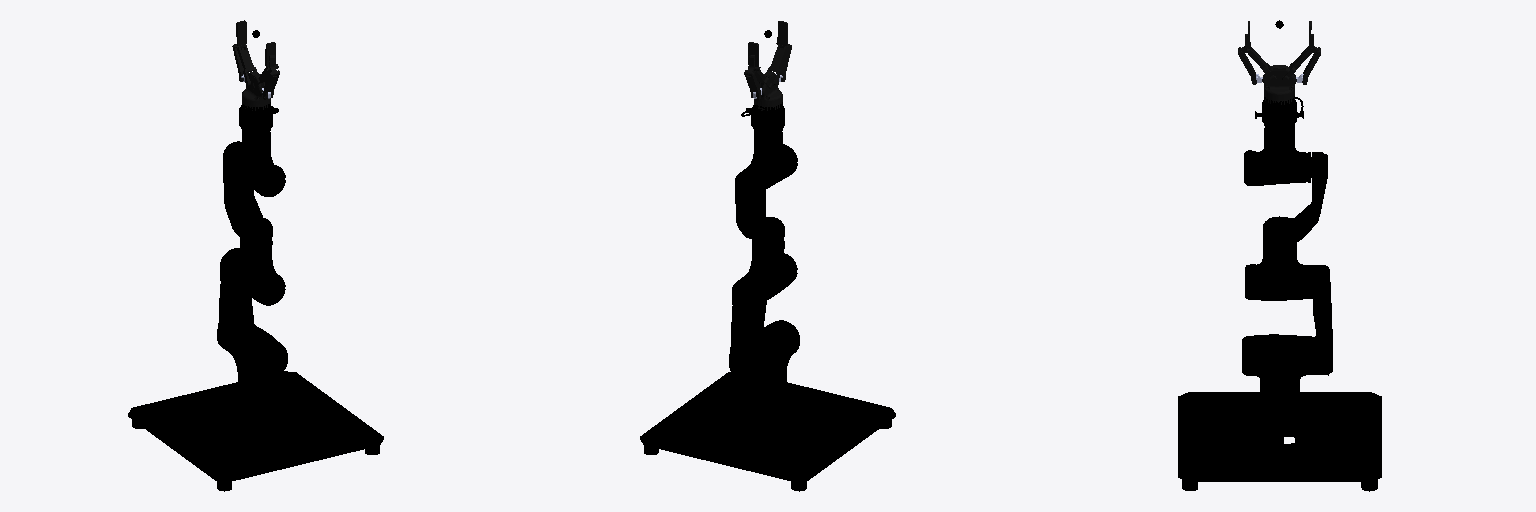
--- What the picture shows (computed from the rendered views, not written in the file) ---
3 views of the same robot in one strip: view 1: azimuth 30°, elevation 25°; view 2: azimuth 150°, elevation 25°; view 3: azimuth 270°, elevation 25° (orthographic).
Robot: mara — 24 links, 23 joints (12 revolute, 11 fixed); root link world; default pose: all joints at 0.
Links seen in each view (by area): view 1: base_link, base_robot, motor4_link, motor1_link, motor1_cover, motor2_link, motor3_link, motor5_link, motor3_cover, motor5_cover, motor6_link, robotiq_arg2f_base_link; view 2: base_link, base_robot, motor2_link, motor4_link, motor1_link, motor3_link, motor5_link, motor6_link, motor1_cover, robotiq_arg2f_base_link; view 3: base_link, base_robot, motor1_link, motor3_link, motor4_link, motor5_link, motor2_link, motor1_cover, motor6_link, motor5_cover, robotiq_arg2f_base_link, motor3_cover.
Link boxes in pixels (<box>): base_link: <box>128,371,383,491</box>; base_robot: <box>210,391,301,444</box>; motor4_link: <box>223,141,272,242</box>; motor1_link: <box>225,321,274,400</box>; motor1_cover: <box>223,319,287,403</box>; motor2_link: <box>217,248,254,348</box>; motor3_link: <box>228,241,275,294</box>; motor5_link: <box>231,132,273,182</box>; motor3_cover: <box>226,239,285,305</box>; motor5_cover: <box>229,129,285,196</box>; motor6_link: <box>239,102,278,133</box>; robotiq_arg2f_base_link: <box>242,71,270,110</box>; base_link: <box>640,372,895,491</box>; base_robot: <box>722,391,813,444</box>; motor2_link: <box>729,275,766,383</box>; motor4_link: <box>735,168,784,243</box>; motor1_link: <box>749,330,793,400</box>; motor3_link: <box>745,240,790,299</box>; motor5_link: <box>747,132,788,188</box>; motor6_link: <box>741,102,784,133</box>; motor1_cover: <box>749,320,799,403</box>; robotiq_arg2f_base_link: <box>754,71,782,110</box>; base_link: <box>1178,392,1381,491</box>; base_robot: <box>1231,400,1328,452</box>; motor1_link: <box>1255,335,1311,409</box>; motor3_link: <box>1255,243,1307,300</box>; motor4_link: <box>1263,152,1327,244</box>; motor5_link: <box>1257,127,1311,183</box>; motor2_link: <box>1313,265,1332,375</box>; motor1_cover: <box>1242,334,1315,413</box>; motor6_link: <box>1255,96,1303,129</box>; motor5_cover: <box>1244,125,1310,185</box>; robotiq_arg2f_base_link: <box>1262,65,1296,104</box>; motor3_cover: <box>1245,240,1312,300</box>.
Bounding box of the posed robot: 0.5004 × 0.5004 × 1.16 m (x, y, z).
Meshes: 21 distinct files referenced, 20 mesh visuals loaded (20 Collada DAE); not drawn: 5 (reference not matched to a file when rendering).

URDF robot description (mara):
<?xml version="1.0" ?>
<!-- =================================================================================== -->
<!-- |    This document was autogenerated by xacro from [local-path]/ros2_mara_ws/src/MARA_AI/mara_description/urdf/mara_robot_gripper_140.urdf.xacro | -->
<!-- |    EDITING THIS FILE BY HAND IS NOT RECOMMENDED                                 | -->
<!-- =================================================================================== -->
<robot name="mara" xmlns:xacro="http://ros.org/wiki/xacro">
  <!--
  Author: Alejandro  Hernandez
-->
  <!-- <xacro:include filename="$(find mara_description)/urdf/camera_top.urdf.xacro" /> -->
  <link name="base_link">
    <inertial>
      <origin rpy="0 0 0" xyz="8.625E-08 -4.6583E-06 0.03145"/>
      <mass value="7.033"/>
      <inertia ixx="0.1478344" ixy="-0.00001" ixz="0.0" iyy="0.14782335" iyz="0.0" izz="0.29471799"/>
    </inertial>
    <visual>
      <origin rpy="0 0 0" xyz="0 0 0"/>
      <geometry>
        <mesh filename="package://mara_description/meshes/Base_plancha.dae" scale="0.001 0.001 0.001"/>
      </geometry>
      <material name="Gazebo/Grey">
        <color rgba="0. 0. 0. 1"/>
      </material>
    </visual>
    <collision>
      <origin rpy="0 0 0" xyz="0 0 0"/>
      <geometry>
        <mesh filename="package://mara_description/meshes/Base_plancha.dae" scale="0.001 0.001 0.001"/>
      </geometry>
    </collision>
  </link>
  <gazebo reference="base_link">
    <material>Gazebo/Grey</material>
    <selfCollide>True</selfCollide>
  </gazebo>
  <link name="base_robot">
    <inertial>
      <origin rpy="0 0 0" xyz="8.625E-08 -4.6583E-06 0.03145"/>
      <mass value="7.033"/>
      <inertia ixx="0.1478344" ixy="-0.00001" ixz="0.0" iyy="0.14782335" iyz="0.0" izz="0.29471799"/>
    </inertial>
    <visual>
      <origin rpy="0 0 0" xyz="0 0 0"/>
      <geometry>
        <mesh filename="package://mara_description/meshes/Base.dae" scale="0.001 0.001 0.001"/>
      </geometry>
      <material name="Gazebo/Black">
        <color rgba="0. 0. 0. 1"/>
      </material>
    </visual>
    <collision>
      <origin rpy="0 0 0" xyz="0 0 0"/>
      <geometry>
        <mesh filename="package://mara_description/meshes/Base.dae" scale="0.001 0.001 0.001"/>
      </geometry>
    </collision>
  </link>
  <gazebo reference="base_robot">
    <material>Gazebo/Black</material>
    <selfCollide>True</selfCollide>
  </gazebo>
  <link name="motor1_link">
    <inertial>
      <origin rpy="0 0 0" xyz="8.625E-08 -4.6583E-06 0.03145"/>
      <mass value="5.8"/>
      <inertia ixx="0.10105893" ixy="0.000211" ixz="-0.004" iyy="0.09386624" iyz="-0.01698537" izz="0.01449937"/>
    </inertial>
    <visual>
      <origin rpy="0 0 0" xyz="0 0 0"/>
      <geometry>
        <mesh filename="package://mara_description/meshes/MARA_T49.dae" scale="0.001 0.001 0.001"/>
      </geometry>
      <material name="Gazebo/White">
        <color rgba="0. 0. 0. 1"/>
      </material>
    </visual>
    <collision>
      <origin rpy="0 0 0" xyz="0 0 0"/>
      <geometry>
        <mesh filename="package://mara_description/meshes/MARA_T49.dae" scale="0.001 0.001 0.001"/>
      </geometry>
    </collision>
  </link>
  <gazebo reference="motor1_link">
    <material>Gazebo/White</material>
    <selfCollide>True</selfCollide>
  </gazebo>
  <link name="motor1_cover">
    <inertial>
      <origin rpy="0 0 0" xyz="8.625E-08 -4.6583E-06 0.03145"/>
      <mass value="5.8"/>
      <inertia ixx="0.10105893" ixy="0.000211" ixz="-0.004" iyy="0.09386624" iyz="-0.01698537" izz="0.01449937"/>
    </inertial>
    <visual>
      <origin rpy="0 0 0" xyz="0 0 0"/>
      <geometry>
        <mesh filename="package://mara_description/meshes/MARA_T49_Black.dae" scale="0.001 0.001 0.001"/>
      </geometry>
      <material name="Gazebo/Black">
        <color rgba="0. 0. 0. 1"/>
      </material>
    </visual>
    <collision>
      <origin rpy="0 0 0" xyz="0 0 0"/>
      <geometry>
        <mesh filename="package://mara_description/meshes/MARA_T49_Black.dae" scale="0.001 0.001 0.001"/>
      </geometry>
    </collision>
  </link>
  <gazebo reference="motor1_cover">
    <material>Gazebo/Black</material>
    <selfCollide>True</selfCollide>
  </gazebo>
  <link name="motor2_link">
    <inertial>
      <origin rpy="0 0 0" xyz="8.625E-08 -4.6583E-06 0.03145"/>
      <mass value="1.03237"/>
      <inertia ixx="0.014865226" ixy="0.0" ixz="0.0" iyy="0.01557" iyz="0.00071" izz="0.00092"/>
    </inertial>
    <visual>
      <origin rpy="0 0 0" xyz="0 0 0"/>
      <geometry>
        <mesh filename="package://mara_description/meshes/MARA_Link1.dae" scale="0.001 0.001 0.001"/>
      </geometry>
      <material name="Gazebo/Black">
        <color rgba="0. 0. 0. 1"/>
      </material>
    </visual>
    <collision>
      <origin rpy="0 0 0" xyz="0 0 0"/>
      <geometry>
        <mesh filename="package://mara_description/meshes/MARA_Link1.dae" scale="0.001 0.001 0.001"/>
      </geometry>
    </collision>
  </link>
  <gazebo reference="motor2_link">
    <material>Gazebo/Black</material>
    <selfCollide>True</selfCollide>
  </gazebo>
  <link name="motor3_link">
    <inertial>
      <origin rpy="0 0 0" xyz="8.625E-08 -4.6583E-06 0.03145"/>
      <mass value="3.8"/>
      <inertia ixx="0.04517" ixy="0.00002" ixz="0.0" iyy="0.01587" iyz="0.01444" izz="0.03303"/>
    </inertial>
    <visual>
      <origin rpy="0 0 0" xyz="0 0 0"/>
      <geometry>
        <mesh filename="package://mara_description/meshes/MARA_T30.dae" scale="0.001 0.001 0.001"/>
      </geometry>
      <material name="Gazebo/White">
        <color rgba="0. 0. 0. 1"/>
      </material>
    </visual>
    <collision>
      <origin rpy="0 0 0" xyz="0 0 0"/>
      <geometry>
        <mesh filename="package://mara_description/meshes/MARA_T30.dae" scale="0.001 0.001 0.001"/>
      </geometry>
    </collision>
  </link>
  <gazebo reference="motor3_link">
    <material>Gazebo/White</material>
    <selfCollide>True</selfCollide>
  </gazebo>
  <link name="motor3_cover">
    <inertial>
      <origin rpy="0 0 0" xyz="8.625E-08 -4.6583E-06 0.03145"/>
      <mass value="3.8"/>
      <inertia ixx="0.04517" ixy="0.00002" ixz="0.0" iyy="0.01587" iyz="0.01444" izz="0.03303"/>
    </inertial>
    <visual>
      <origin rpy="0 0 0" xyz="0 0 0"/>
      <geometry>
        <mesh filename="package://mara_description/meshes/MARA_T30_Black.dae" scale="0.001 0.001 0.001"/>
      </geometry>
      <material name="Gazebo/Black">
        <color rgba="0. 0. 0. 1"/>
      </material>
    </visual>
    <collision>
      <origin rpy="0 0 0" xyz="0 0 0"/>
      <geometry>
        <mesh filename="package://mara_description/meshes/MARA_T30_Black.dae" scale="0.001 0.001 0.001"/>
      </geometry>
    </collision>
  </link>
  <gazebo reference="motor3_cover">
    <material>Gazebo/Black</material>
    <selfCollide>True</selfCollide>
  </gazebo>
  <link name="motor4_link">
    <inertial>
      <origin rpy="0 0 0" xyz="8.625E-08 -4.6583E-06 0.03145"/>
      <mass value="1.1"/>
      <inertia ixx="0.01464" ixy="0.0" ixz="0.0" iyy="0.00895" iyz="-0.00631" izz="0.00725"/>
    </inertial>
    <visual>
      <origin rpy="0 0 0" xyz="0 0 0"/>
      <geometry>
        <mesh filename="package://mara_description/meshes/MARA_Link2.dae" scale="0.001 0.001 0.001"/>
      </geometry>
      <material name="Gazebo/Black">
        <color rgba="0. 0. 0. 1"/>
      </material>
    </visual>
    <collision>
      <origin rpy="0 0 0" xyz="0 0 0"/>
      <geometry>
        <mesh filename="package://mara_description/meshes/MARA_Link2.dae" scale="0.001 0.001 0.001"/>
      </geometry>
    </collision>
  </link>
  <gazebo reference="motor4_link">
    <material>Gazebo/Black</material>
    <selfCollide>True</selfCollide>
  </gazebo>
  <link name="motor5_link">
    <inertial>
      <origin rpy="0 0 0" xyz="8.625E-08 -4.6583E-06 0.03145"/>
      <mass value="2.9"/>
      <inertia ixx="0.03406" ixy="0.0" ixz="0.0" iyy="0.01066" iyz="0.00989" izz="0.02563"/>
    </inertial>
    <visual>
      <origin rpy="0 0 0" xyz="0 0 0"/>
      <geometry>
        <mesh filename="package://mara_description/meshes/MARA_T5.4.dae" scale="0.001 0.001 0.001"/>
      </geometry>
      <material name="Gazebo/White">
        <color rgba="0. 0. 0. 1"/>
      </material>
    </visual>
    <collision>
      <origin rpy="0 0 0" xyz="0 0 0"/>
      <geometry>
        <mesh filename="package://mara_description/meshes/MARA_T5.4.dae" scale="0.001 0.001 0.001"/>
      </geometry>
    </collision>
  </link>
  <gazebo reference="motor5_link">
    <material>Gazebo/White</material>
    <selfCollide>True</selfCollide>
  </gazebo>
  <link name="motor5_cover">
    <inertial>
      <origin rpy="0 0 0" xyz="8.625E-08 -4.6583E-06 0.03145"/>
      <mass value="2.9"/>
      <inertia ixx="0.03406" ixy="0.0" ixz="0.0" iyy="0.01066" iyz="0.00989" izz="0.02563"/>
    </inertial>
    <visual>
      <origin rpy="0 0 0" xyz="0 0 0"/>
      <geometry>
        <mesh filename="package://mara_description/meshes/MARA_T5.4_black.dae" scale="0.001 0.001 0.001"/>
      </geometry>
      <material name="Gazebo/Black">
        <color rgba="0. 0. 0. 1"/>
      </material>
    </visual>
    <collision>
      <origin rpy="0 0 0" xyz="0 0 0"/>
      <geometry>
        <mesh filename="package://mara_description/meshes/MARA_T5.4_black.dae" scale="0.001 0.001 0.001"/>
      </geometry>
    </collision>
  </link>
  <gazebo reference="motor5_cover">
    <material>Gazebo/Black</material>
    <selfCollide>True</selfCollide>
  </gazebo>
  <link name="motor6_link">
    <inertial>
      <origin rpy="0 0 0" xyz="8.625E-08 -4.6583E-06 0.03145"/>
      <mass value="2.9"/>
      <inertia ixx="0.0005" ixy="0.0" ixz="0.0" iyy="0.0005" iyz="0.0000" izz="0.0003"/>
    </inertial>
    <visual>
      <origin rpy="0 0 0" xyz="0 0 0"/>
      <geometry>
        <mesh filename="package://mara_description/meshes/MARA_GripperAdapter.dae" scale="0.001 0.001 0.001"/>
      </geometry>
      <material name="Gazebo/Black">
        <color rgba="0. 0. 0. 1"/>
      </material>
    </visual>
    <collision>
      <origin rpy="0 0 0" xyz="0 0 0"/>
      <geometry>
        <mesh filename="package://mara_description/meshes/MARA_GripperAdapter.dae" scale="0.001 0.001 0.001"/>
      </geometry>
    </collision>
  </link>
  <gazebo reference="motor6_link">
    <material>Gazebo/Black</material>
    <selfCollide>True</selfCollide>
  </gazebo>
  <link name="ee_link">
    <visual>
      <geometry>
        <sphere radius="0.01"/>
      </geometry>
      <material name="Gazebo/Grey">
        <color rgba="0. 0. 0. 1"/>
      </material>
    </visual>
  </link>
  <gazebo reference="ee_link">
    <material>Gazebo/Blue</material>
    <selfCollide>False</selfCollide>
  </gazebo>
  <joint name="joint_bases" type="fixed">
    <origin rpy="0 0 0" xyz="0 0 0.04"/>
    <parent link="base_link"/>
    <child link="base_robot"/>
  </joint>
  <joint name="motor1" type="revolute">
    <origin rpy="0 0 0" xyz="0 0 0.05122"/>
    <parent link="base_robot"/>
    <child link="motor1_link"/>
    <axis xyz="0 0 -1"/>
    <limit effort="330.0" lower="-3.1416" upper="3.1416" velocity="3.1416"/>
    <dynamics damping="0" friction="0"/>
  </joint>
  <joint name="motor1_cover_joint" type="fixed">
    <origin rpy="0 0 0" xyz="0 0 0.0"/>
    <parent link="motor1_link"/>
    <child link="motor1_cover"/>
  </joint>
  <joint name="motor2" type="revolute">
    <origin rpy="0 0 0" xyz="0.118 0 0.1637"/>
    <parent link="motor1_link"/>
    <child link="motor2_link"/>
    <axis xyz="-1 0 0"/>
    <limit effort="330.0" lower="-3.1416" upper="3.1416" velocity="3.1416"/>
    <dynamics damping="0" friction="0"/>
  </joint>
  <joint name="motor3" type="revolute">
    <origin rpy="0 0 0" xyz="-0.009 0 0.2"/>
    <parent link="motor2_link"/>
    <child link="motor3_link"/>
    <axis xyz="1 0 0"/>
    <limit effort="330.0" lower="-3.1416" upper="3.1416" velocity="3.1416"/>
    <dynamics damping="0" friction="0"/>
  </joint>
  <joint name="motor3_cover_joint" type="fixed">
    <origin rpy="0 0 0" xyz="0 0 0.0"/>
    <parent link="motor3_link"/>
    <child link="motor3_cover"/>
  </joint>
  <joint name="motor4" type="revolute">
    <origin rpy="0 0 0" xyz="-0.109255 0 0.149255"/>
    <parent link="motor3_link"/>
    <child link="motor4_link"/>
    <axis xyz="0 0 -1"/>
    <limit effort="330.0" lower="-3.1416" upper="3.1416" velocity="3.1416"/>
    <dynamics damping="0" friction="0"/>
  </joint>
  <joint name="motor5" type="revolute">
    <origin rpy="0 0 0" xyz="0.1054570 0 0.16074"/>
    <parent link="motor4_link"/>
    <child link="motor5_link"/>
    <axis xyz="1 0 0"/>
    <limit effort="330.0" lower="-3.1416" upper="3.1416" velocity="3.1416"/>
    <dynamics damping="0" friction="0"/>
  </joint>
  <joint name="motor5_cover_joint" type="fixed">
    <origin rpy="0 0 0" xyz="0 0 0.0"/>
    <parent link="motor5_link"/>
    <child link="motor5_cover"/>
  </joint>
  <joint name="motor6" type="revolute">
    <origin rpy="0 0 0" xyz="-0.10625569 0 0.14675569"/>
    <parent link="motor5_link"/>
    <child link="motor6_link"/>
    <axis xyz="0 0 -1"/>
    <limit effort="330.0" lower="-3.1416" upper="3.1416" velocity="3.1416"/>
    <dynamics damping="0" friction="0"/>
  </joint>
  <joint name="ee_link" type="fixed">
    <origin rpy="0 0 0" xyz="0 0.0 0.24"/>
    <!-- 0.24 -->
    <parent link="motor6_link"/>
    <child link="ee_link"/>
  </joint>
  <link name="tool0"/>
  <joint name="motor6_link-tool0_fixed_joint" type="fixed">
    <origin rpy="0 0 0" xyz="0 0.0 0.24"/>
    <parent link="motor6_link"/>
    <child link="tool0"/>
  </joint>
  <transmission name="shoulder_pan_trans">
    <type>transmission_interface/SimpleTransmission</type>
    <joint name="motor1">
      <hardwareInterface>hardware_interface/PositionJointInterface</hardwareInterface>
    </joint>
    <actuator name="shoulder_pan_motor">
      <mechanicalReduction>1</mechanicalReduction>
    </actuator>
  </transmission>
  <transmission name="shoulder_lift_trans">
    <type>transmission_interface/SimpleTransmission</type>
    <joint name="motor2">
      <hardwareInterface>hardware_interface/PositionJointInterface</hardwareInterface>
    </joint>
    <actuator name="shoulder_lift_motor">
      <mechanicalReduction>1</mechanicalReduction>
    </actuator>
  </transmission>
  <transmission name="elbow_trans">
    <type>transmission_interface/SimpleTransmission</type>
    <joint name="motor3">
      <hardwareInterface>hardware_interface/PositionJointInterface</hardwareInterface>
    </joint>
    <actuator name="elbow_motor">
      <mechanicalReduction>1</mechanicalReduction>
    </actuator>
  </transmission>
  <transmission name="wrist_1_trans">
    <type>transmission_interface/SimpleTransmission</type>
    <joint name="motor4">
      <hardwareInterface>hardware_interface/PositionJointInterface</hardwareInterface>
    </joint>
    <actuator name="wrist_1_motor">
      <mechanicalReduction>1</mechanicalReduction>
    </actuator>
  </transmission>
  <transmission name="wrist_2_trans">
    <type>transmission_interface/SimpleTransmission</type>
    <joint name="motor5">
      <hardwareInterface>hardware_interface/PositionJointInterface</hardwareInterface>
    </joint>
    <actuator name="wrist_2_motor">
      <mechanicalReduction>1</mechanicalReduction>
    </actuator>
  </transmission>
  <transmission name="wrist_3_trans">
    <type>transmission_interface/SimpleTransmission</type>
    <joint name="motor6">
      <hardwareInterface>hardware_interface/PositionJointInterface</hardwareInterface>
    </joint>
    <actuator name="wrist_3_motor">
      <mechanicalReduction>1</mechanicalReduction>
    </actuator>
  </transmission>
  <gazebo>
    <plugin filename="libmara_gazebo_joint_running_plugin.so" name="hros_actuation_servomotor_00000000000">
      <ros/>
      <axis1>motor2</axis1>
      <axis2>motor1</axis2>
      <axis3>motor3</axis3>
      <axis4>motor4</axis4>
      <axis5>motor5</axis5>
      <axis6>motor6</axis6>
    </plugin>
  </gazebo>
  <link name="robotiq_arg2f_base_link">
    <inertial>
      <origin rpy="0 0 0" xyz="8.625E-08 -4.6583E-06 0.03145"/>
      <mass value="0.22652"/>
      <inertia ixx="0.00020005" ixy="0" ixz="0" iyy="0.00017832" iyz="0" izz="0.00013478"/>
    </inertial>
    <visual>
      <origin rpy="0 0 1.57" xyz="0 0 0"/>
      <geometry>
        <mesh filename="package://robotiq_140_gripper_description/meshes/GRIPPER_base_axis.dae" scale="0.001 0.001 0.001"/>
      </geometry>
      <material name="Gazebo/Black">
        <color rgba="0.1 0.1 0.1 1"/>
      </material>
    </visual>
    <collision>
      <origin rpy="0 0 1.57" xyz="0 0 0"/>
      <geometry>
        <mesh filename="package://robotiq_140_gripper_description/meshes/GRIPPER_base_axis.dae" scale="0.001 0.001 0.001"/>
      </geometry>
    </collision>
  </link>
  <gazebo reference="robotiq_arg2f_base_link">
    <material>Gazebo/Black</material>
    <selfCollide>False</selfCollide>
  </gazebo>
  <link name="left_outer_knuckle">
    <inertial>
      <origin rpy="0 0 0" xyz="0 0 0"/>
      <mass value="0.00853198276973456"/>
      <inertia ixx="2.89328108496468E-06" ixy="-1.57935047237397E-19" ixz="-1.93980378593255E-19" iyy="1.86719750325683E-06" iyz="-1.21858577871576E-06" izz="1.21905238907251E-06"/>
    </inertial>
    <visual>
      <origin rpy="0 0 0" xyz="0 0 0"/>
      <geometry>
        <mesh filename="package://robotiq_140_gripper_description/meshes/robotiq_140_left_outer_knuckle.dae"/>
      </geometry>
      <material name="">
        <color rgba="0.792156862745098 0.819607843137255 0.933333333333333 1"/>
      </material>
    </visual>
    <collision>
      <origin rpy="0 0 0" xyz="0 0 0"/>
      <geometry>
        <mesh filename="package://robotiq_140_gripper_description/meshes/robotiq_140_left_outer_knuckle.dae"/>
      </geometry>
    </collision>
  </link>
  <gazebo reference="left_outer_knuckle">
    <material>Gazebo/Grey</material>
    <selfCollide>False</selfCollide>
  </gazebo>
  <link name="right_outer_knuckle">
    <inertial>
      <origin rpy="0 0 0" xyz="0 0 0"/>
      <mass value="0.00853198276973456"/>
      <inertia ixx="2.89328108496468E-06" ixy="-1.57935047237397E-19" ixz="-1.93980378593255E-19" iyy="1.86719750325683E-06" iyz="-1.21858577871576E-06" izz="1.21905238907251E-06"/>
    </inertial>
    <visual>
      <origin rpy="0 0 0" xyz="0 0 0"/>
      <geometry>
        <mesh filename="package://robotiq_140_gripper_description/meshes/robotiq_140_right_outer_knuckle.dae"/>
      </geometry>
      <material name="">
        <color rgba="0.792156862745098 0.819607843137255 0.933333333333333 1"/>
      </material>
    </visual>
    <collision>
      <origin rpy="0 0 0" xyz="0 0 0"/>
      <geometry>
        <mesh filename="package://robotiq_140_gripper_description/meshes/robotiq_140_right_outer_knuckle.dae"/>
      </geometry>
    </collision>
  </link>
  <gazebo reference="right_outer_knuckle">
    <material>Gazebo/Grey</material>
    <selfCollide>False</selfCollide>
  </gazebo>
  <link name="left_inner_knuckle">
    <inertial>
      <origin rpy="0 0 0" xyz="0.000123011831763771 0.0507850843201817 0.00103968640075166"/>
      <mass value="0.0271177346495152"/>
      <inertia ixx="2.61910379223783E-05" ixy="-2.43616858946494E-07" ixz="-6.37789906117123E-09" iyy="2.8270243746167E-06" iyz="-5.37200748039765E-07" izz="2.83695868220296E-05"/>
    </inertial>
    <visual>
      <origin rpy="0 0 0" xyz="0 0 0"/>
      <geometry>
        <mesh filename="package://robotiq_140_gripper_description/meshes/robotiq_140_left_inner_knuckle.dae"/>
      </geometry>
      <material name="Gazebo/Black">
        <color rgba="0.1 0.1 0.1 1"/>
      </material>
    </visual>
  </link>
  <gazebo reference="left_inner_knuckle">
    <material>Gazebo/Black</material>
    <selfCollide>False</selfCollide>
  </gazebo>
  <link name="right_inner_knuckle">
    <inertial>
      <origin rpy="0 0 0" xyz="0.000123011831763771 0.0507850843201817 0.00103968640075166"/>
      <mass value="0.0271177346495152"/>
      <inertia ixx="2.61910379223783E-05" ixy="-2.43616858946494E-07" ixz="-6.37789906117123E-09" iyy="2.8270243746167E-06" iyz="-5.37200748039765E-07" izz="2.83695868220296E-05"/>
    </inertial>
    <visual>
      <origin rpy="0 0 0" xyz="0 0 0"/>
      <geometry>
        <mesh filename="package://robotiq_140_gripper_description/meshes/robotiq_140_right_inner_knuckle.dae"/>
      </geometry>
      <material name="Gazebo/Black">
        <color rgba="0.1 0.1 0.1 1"/>
      </material>
    </visual>
  </link>
  <gazebo reference="right_inner_knuckle">
    <material>Gazebo/Black</material>
    <selfCollide>False</selfCollide>
  </gazebo>
  <link name="left_inner_finger">
    <inertial>
      <origin rpy="0 0 0" xyz="0.0 0.031506174 -0.017648840"/>
      <mass value="0.0104003125914103"/>
      <inertia ixx="2.71909453810972E-06" ixy="1.35402465472579E-21" ixz="-7.1817349065269E-22" iyy="7.69100314106116E-07" iyz="6.74715432769696E-07" izz="2.30315190420171E-06"/>
    </inertial>
    <visual>
      <origin rpy="0 0 0" xyz="0 0 0"/>
      <geometry>
        <mesh filename="package://robotiq_140_gripper_description/meshes/robotiq_140_left_inner_finger.dae" scale="0.001 0.001 0.001"/>
      </geometry>
      <material name="Gazebo/Black">
        <color rgba="0.1 0.1 0.1 1"/>
      </material>
    </visual>
    <collision>
      <origin rpy="0 0 0" xyz="0 0 0"/>
      <geometry>
        <mesh filename="package://robotiq_140_gripper_description/meshes/robotiq_140_left_inner_finger.dae" scale="0.001 0.001 0.001"/>
      </geometry>
    </collision>
  </link>
  <gazebo reference="left_inner_finger">
    <material>Gazebo/Black</material>
    <selfCollide>False</selfCollide>
  </gazebo>
  <link name="right_inner_finger">
    <inertial>
      <origin rpy="0 0 0" xyz="0.0 0.031506174 -0.017648840"/>
      <mass value="0.0104003125914103"/>
      <inertia ixx="2.71909453810972E-06" ixy="1.35402465472579E-21" ixz="-7.1817349065269E-22" iyy="7.69100314106116E-07" iyz="6.74715432769696E-07" izz="2.30315190420171E-06"/>
    </inertial>
    <visual>
      <origin rpy="0 0 0" xyz="0 0 0"/>
      <geometry>
        <mesh filename="package://robotiq_140_gripper_description/meshes/robotiq_140_right_inner_finger.dae" scale="0.001 0.001 0.001"/>
      </geometry>
      <material name="Gazebo/Black">
        <color rgba="0.1 0.1 0.1 1"/>
      </material>
    </visual>
    <collision>
      <origin rpy="0 0 0" xyz="0 0 0"/>
      <geometry>
        <mesh filename="package://robotiq_140_gripper_description/meshes/robotiq_140_right_inner_finger.dae" scale="0.001 0.001 0.001"/>
      </geometry>
    </collision>
  </link>
  <gazebo reference="right_inner_finger">
    <material>Gazebo/Black</material>
    <selfCollide>False</selfCollide>
  </gazebo>
  <link name="left_outer_finger">
    <inertial>
      <origin rpy="0 0 0" xyz="0.00030115855001899 0.0373907951953854 -0.0208027427000385"/>
      <mass value="0.022614240507152"/>
      <inertia ixx="1.52518312458174E-05" ixy="9.76583423954399E-10" ixz="-5.43838577022588E-10" iyy="6.17694243867776E-06" iyz="6.78636130740228E-06" izz="1.16494917907219E-05"/>
    </inertial>
    <visual>
      <origin rpy="0 0 0" xyz="0 0 0"/>
      <geometry>
        <mesh filename="package://robotiq_140_gripper_description/meshes/robotiq_140_left_outer_finger.dae"/>
      </geometry>
      <material name="Gazebo/Black">
        <color rgba="0.1 0.1 0.1 1"/>
      </material>
    </visual>
    <collision>
      <origin rpy="0 0 0" xyz="0 0 0"/>
      <geometry>
        <mesh filename="package://robotiq_140_gripper_description/meshes/robotiq_140_left_outer_finger.dae"/>
      </geometry>
    </collision>
  </link>
  <gazebo reference="left_outer_finger">
    <material>Gazebo/Black</material>
    <selfCollide>False</selfCollide>
  </gazebo>
  <link name="right_outer_finger">
    <inertial>
      <origin rpy="0 0 0" xyz="0.00030115855001899 0.0373907951953854 -0.0208027427000385"/>
      <mass value="0.022614240507152"/>
      <inertia ixx="1.52518312458174E-05" ixy="9.76583423954399E-10" ixz="-5.43838577022588E-10" iyy="6.17694243867776E-06" iyz="6.78636130740228E-06" izz="1.16494917907219E-05"/>
    </inertial>
    <visual>
      <origin rpy="0 0 0" xyz="0 0 0"/>
      <geometry>
        <mesh filename="package://robotiq_140_gripper_description/meshes/robotiq_140_right_outer_finger.dae"/>
      </geometry>
      <material name="Gazebo/Black">
        <color rgba="0.1 0.1 0.1 1"/>
      </material>
    </visual>
    <collision>
      <origin rpy="0 0 0" xyz="0 0 0"/>
      <geometry>
        <mesh filename="package://robotiq_140_gripper_description/meshes/robotiq_140_right_outer_finger.dae"/>
      </geometry>
    </collision>
  </link>
  <gazebo reference="right_outer_finger">
    <material>Gazebo/Black</material>
    <selfCollide>False</selfCollide>
  </gazebo>
  <joint name="left_outer_knuckle_joint" type="revolute">
    <origin rpy="2.31 0 0" xyz="0 -0.030601 0.054905"/>
    <parent link="robotiq_arg2f_base_link"/>
    <child link="left_outer_knuckle"/>
    <axis xyz="-1 0 0"/>
    <limit effort="1000" lower="0" upper="0.775" velocity="2.0"/>
    <mimic joint="joint_finger" multiplier="1" offset="0"/>
  </joint>
  <joint name="joint_finger" type="revolute">
    <origin rpy="2.31 0 3.14159265359" xyz="0 0.030601 0.054905"/>
    <parent link="robotiq_arg2f_base_link"/>
    <child link="right_outer_knuckle"/>
    <axis xyz="-1 0 0"/>
    <limit effort="1000" lower="0" upper="0.775" velocity="2.0"/>
  </joint>
  <joint name="left_inner_knuckle_joint" type="revolute">
    <origin rpy="2.29 0 0" xyz="0 -0.0127 0.06142"/>
    <parent link="robotiq_arg2f_base_link"/>
    <child link="left_inner_knuckle"/>
    <axis xyz="-1 0 0"/>
    <limit effort="1000" lower="0" upper="0.78" velocity="2.0"/>
    <mimic joint="joint_finger" multiplier="1" offset="0"/>
  </joint>
  <joint name="right_inner_knuckle_joint" type="revolute">
    <origin rpy="2.29 0 -3.14159265359" xyz="0 0.0127 0.06142"/>
    <parent link="robotiq_arg2f_base_link"/>
    <child link="right_inner_knuckle"/>
    <axis xyz="-1 0 0"/>
    <limit effort="1000" lower="0" upper="0.78" velocity="2.0"/>
    <mimic joint="joint_finger" multiplier="1" offset="0"/>
  </joint>
  <joint name="left_outer_finger_joint" type="fixed">
    <origin rpy="0 0 0" xyz="0 0.01821998610742 0.0260018192872234"/>
    <parent link="left_outer_knuckle"/>
    <child link="left_outer_finger"/>
  </joint>
  <joint name="right_outer_finger_joint" type="fixed">
    <origin rpy="0 0 0" xyz="0 0.01821998610742 0.0260018192872234"/>
    <parent link="right_outer_knuckle"/>
    <child link="right_outer_finger"/>
  </joint>
  <joint name="left_inner_finger_joint" type="revolute">
    <origin rpy="-.725 0 0" xyz="0 0.0817554015893473 -0.0282203446692936"/>
    <parent link="left_outer_finger"/>
    <child link="left_inner_finger"/>
    <axis xyz="1 0 0"/>
    <limit effort="1000" lower="0" upper="0.8757" velocity="2.0"/>
    <mimic joint="joint_finger" multiplier="1" offset="0"/>
  </joint>
  <joint name="right_inner_finger_joint" type="revolute">
    <origin rpy="-.725 0 0" xyz="0 0.0817554015893473 -0.0282203446692936"/>
    <parent link="right_outer_finger"/>
    <child link="right_inner_finger"/>
    <axis xyz="1 0 0"/>
    <limit effort="1000" lower="0" upper="0.8757" velocity="2.0"/>
    <mimic joint="joint_finger" multiplier="1" offset="0"/>
  </joint>
  <gazebo>
    <joint name="left_inner_finger_knuckle_joint" type="revolute">
      <pose frame="">0 0.006 -0.018 0 0 0</pose>
      <parent>mara::left_inner_knuckle</parent>
      <child>mara::left_inner_finger</child>
      <axis>
        <xyz>1 0 0</xyz>
        <limit>
          <lower>-0.8</lower>
          <upper>0.8</upper>
          <velocity>2.0</velocity>
          <effort>1000</effort>
        </limit>
      </axis>
    </joint>
    <joint name="right_inner_finger_knuckle_joint" type="revolute">
      <pose frame="">0 0.006 -0.018 0 0 0</pose>
      <parent>mara::right_inner_knuckle</parent>
      <child>mara::right_inner_finger</child>
      <axis>
        <xyz>-1 0 0</xyz>
        <limit>
          <lower>-0.8</lower>
          <upper>0.8</upper>
          <velocity>2.0</velocity>
          <effort>1000</effort>
        </limit>
      </axis>
    </joint>
    <plugin filename="librobotiq_gripper_gazebo_plugin.so" name="robotiq_140_gripper">
      <joint>left_inner_knuckle_joint</joint>
      <joint>left_outer_knuckle_joint</joint>
      <joint>right_inner_knuckle_joint</joint>
      <joint>joint_finger</joint>
    </plugin>
  </gazebo>
  <link name="table">
    <contact>
      <lateral_friction value="1.0"/>
    </contact>
    <inertial>
      <origin rpy="0 0 0" xyz="0 0 0"/>
      <mass value="0.00001"/>
      <inertia ixx="0.001" ixy="0" ixz="0" iyy="0.001" iyz="0" izz="0.001"/>
    </inertial>
    <visual>
      <origin rpy="0 0 0" xyz="0 0 0.6"/>
      <geometry>
        <mesh filename="package://mara_description/urdf/table.obj" scale="1.5 1 0.05"/>
      </geometry>
      <material name="brown">
        <color rgba="0.63 0.16 0.16 1"/>
      </material>
    </visual>
    <collision>
      <origin rpy="0 0 0" xyz="0 0 0.6"/>
      <geometry>
        <box size="1.5 1 0.05"/>
      </geometry>
    </collision>
    <visual>
      <origin rpy="0 0 0" xyz="-0.65 -0.4 0.29"/>
      <geometry>
        <mesh filename="package://mara_description/urdf/table.obj" scale="0.1 0.1 0.58"/>
      </geometry>
      <material name="framemat0"/>
    </visual>
    <visual>
      <origin rpy="0 0 0" xyz="-0.65 0.4 0.29"/>
      <geometry>
        <mesh filename="package://mara_description/urdf/table.obj" scale="0.1 0.1 0.58"/>
      </geometry>
      <material name="framemat0"/>
    </visual>
    <visual>
      <origin rpy="0 0 0" xyz="0.65 -0.4 0.29"/>
      <geometry>
        <mesh filename="package://mara_description/urdf/table.obj" scale="0.1 0.1 0.58"/>
      </geometry>
      <material name="framemat0"/>
    </visual>
    <visual>
      <origin rpy="0 0 0" xyz="0.65 0.4 0.29"/>
      <geometry>
        <mesh filename="package://mara_description/urdf/table.obj" scale="0.1 0.1 0.58"/>
      </geometry>
    </visual>
  </link>
  <gazebo reference="table">
    <material>Gazebo/Brown</material>
    <selfCollide>True</selfCollide>
  </gazebo>
  <link name="world"/>
  <joint name="end_effector_adapter_to_robotiq" type="fixed">
    <origin rpy="0 0 1.57" xyz=" 0 0 0.03653"/>
    <parent link="motor6_link"/>
    <child link="robotiq_arg2f_base_link"/>
  </joint>
  <joint name="world_to_table_joint" type="fixed">
    <origin rpy="0 0 0" xyz="0 0 0.02"/>
    <parent link="world"/>
    <child link="table"/>
  </joint>
  <joint name="table_to_base_joint" type="fixed">
    <origin rpy="0 0 1.57" xyz="0 0 0.62"/>
    <parent link="table"/>
    <child link="base_link"/>
  </joint>
</robot>
